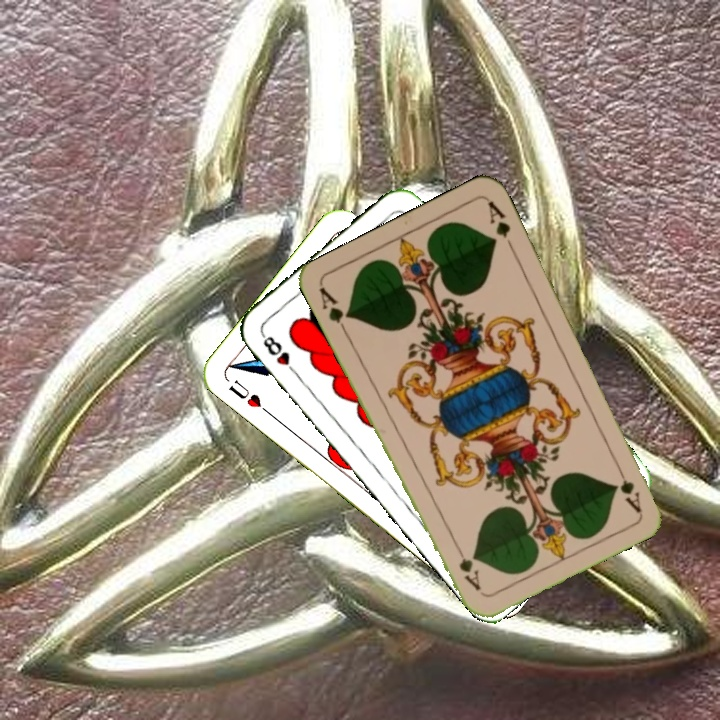GA: (315, 283, 353, 338), (611, 458, 644, 515)
H8: (257, 329, 301, 378)
HU: (224, 375, 273, 417)
